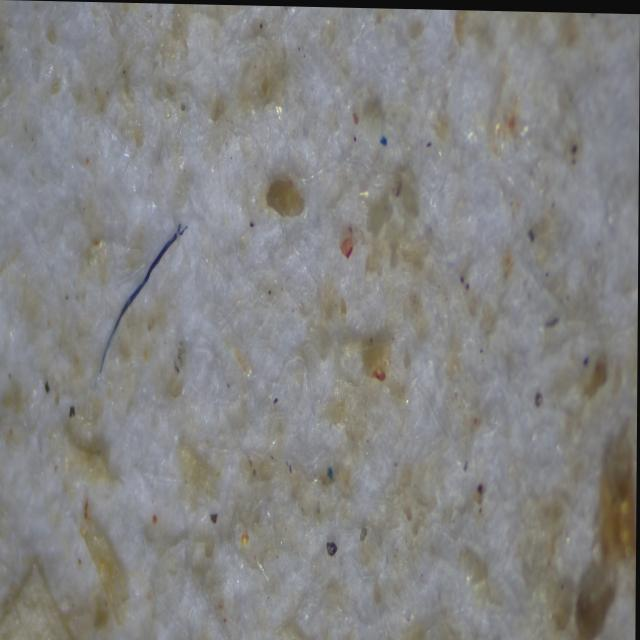microplastic: (84, 218, 188, 388), (326, 464, 336, 480), (378, 133, 390, 146)
